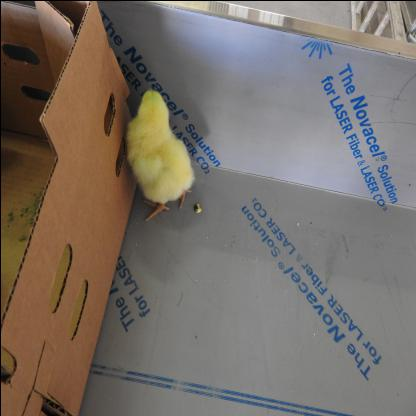Chickrotationtrack_idkeyframe: (123, 75, 195, 219)
